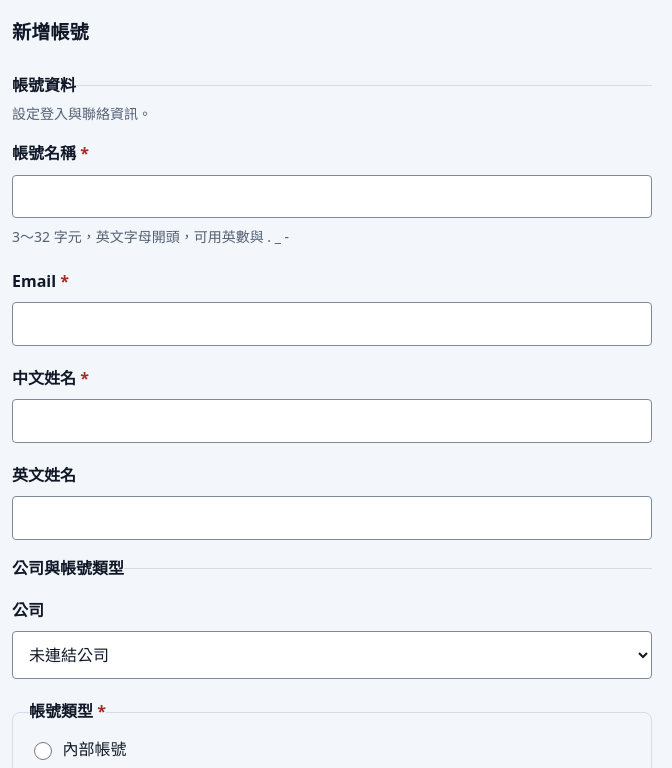
Test: UserForm 帳號類型（DOM-R71） › 中文姓名錯誤以帳號用語說明欄位需求
Type "ben.lin" into the field labelled "帳號名稱" at (332, 196), box left=12, top=174, right=652, bottom=218
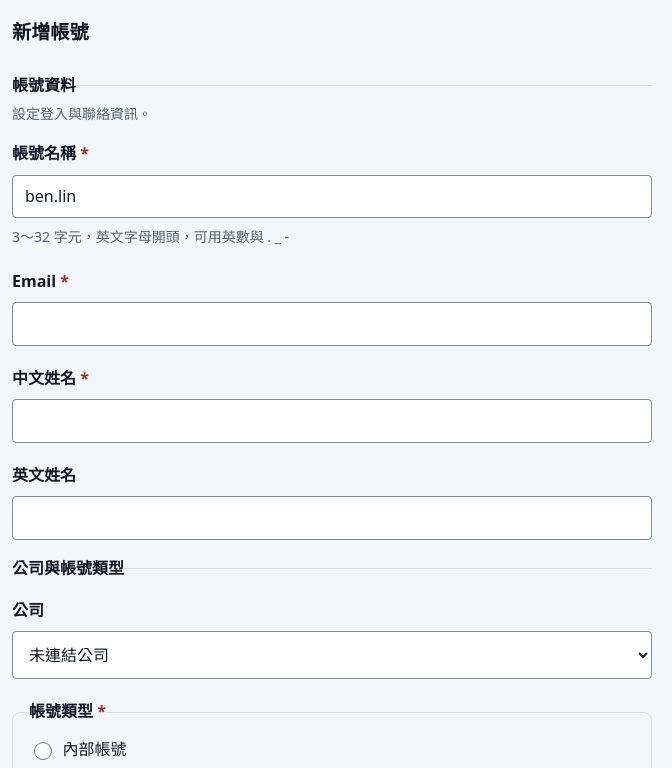
Type "ben@example.com" into the field labelled "Email" at (332, 324), box left=12, top=302, right=652, bottom=346
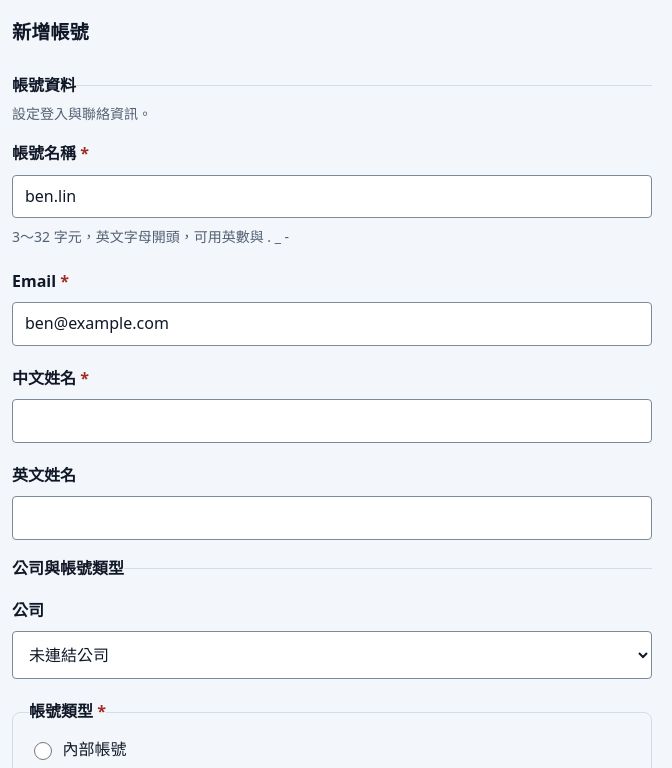
Click the radio button labelled "內部帳號" at (43, 751), box left=34, top=742, right=52, bottom=760
(page scrolled)
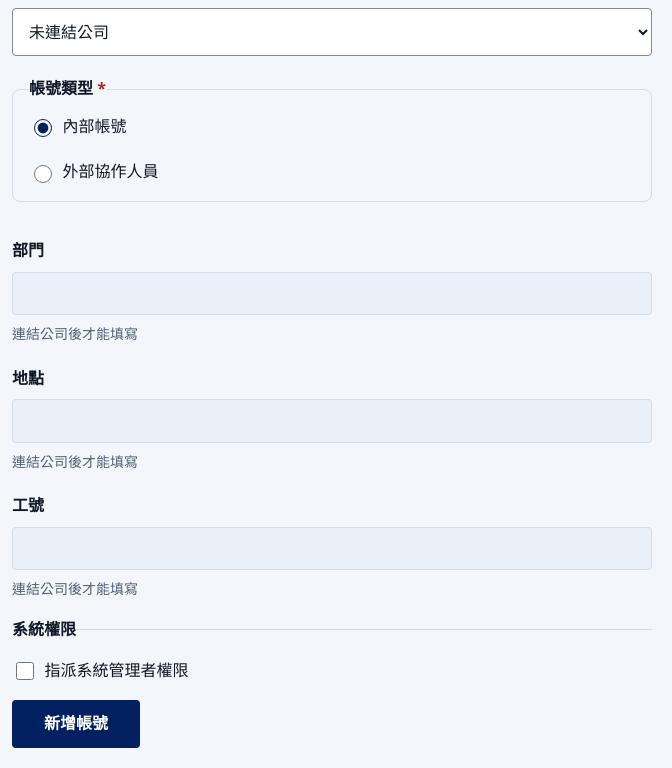
Click the button "新增帳號" at (76, 724), box left=12, top=700, right=140, bottom=748
(page scrolled)
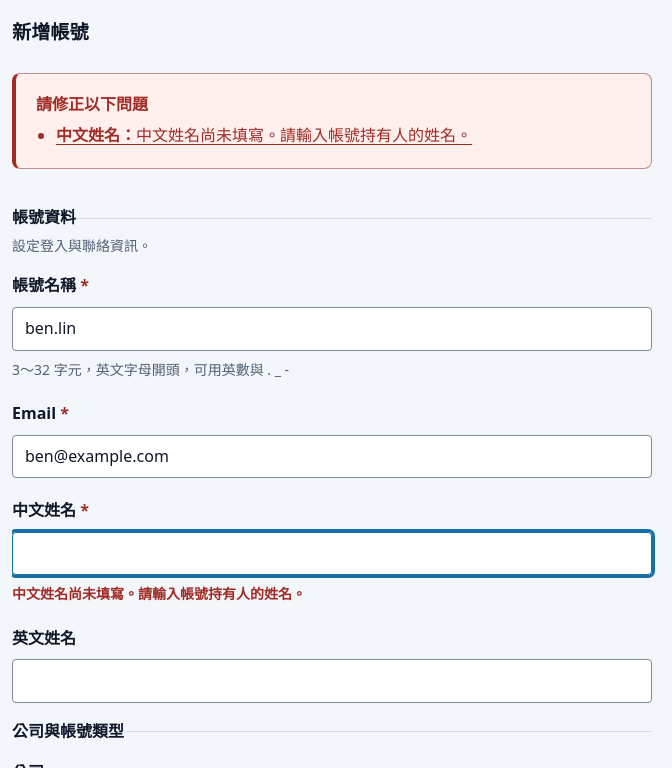
Result: the message shows "中文姓名尚未填寫。請輸入帳號持有人的姓名。" at left=56, top=124, right=472, bottom=146
